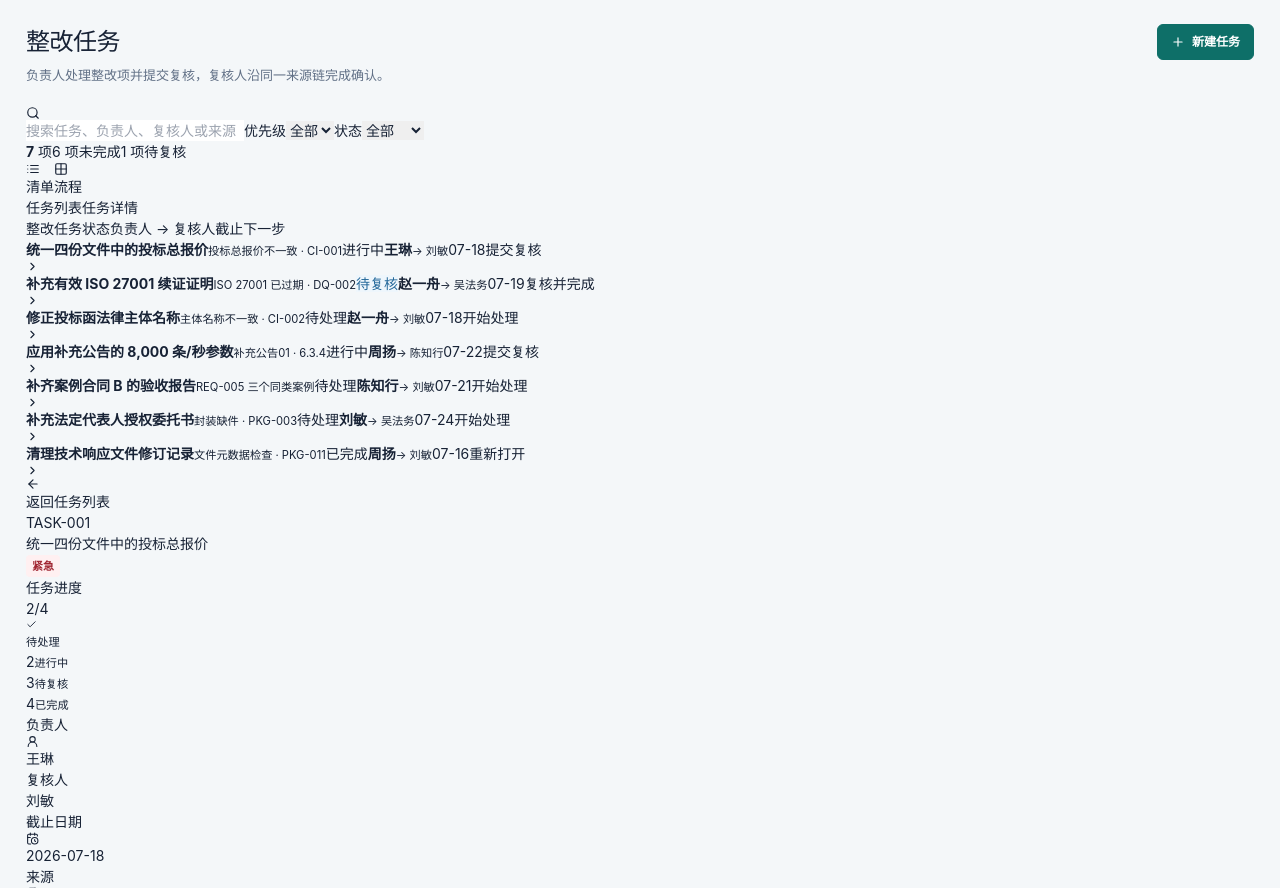
Phase 3-5 workbenches › keeps task filtering, selection and source context in one worklist
Select "高" in the dropdown named "按优先级筛选". click: (310, 130)
box: [286,120,334,140]
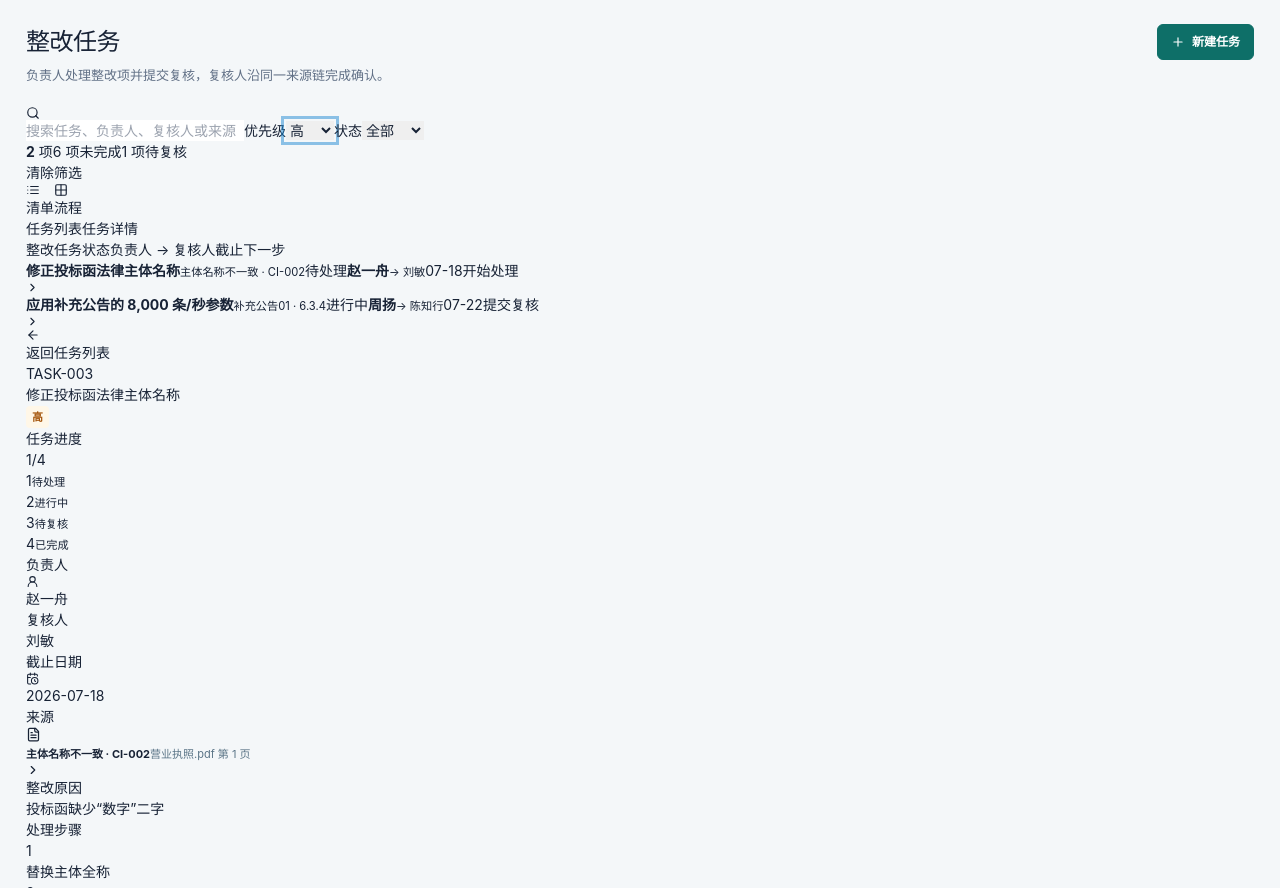
Expected: the button "修正投标函法律主体名称" is shown, [26,260,519,294]
Result: the button "统一四份文件中的投标总报价" is gone
Click the button "应用补充公告的 8,000 条/秒参数". click: (282, 310)
box: [26,294,539,328]
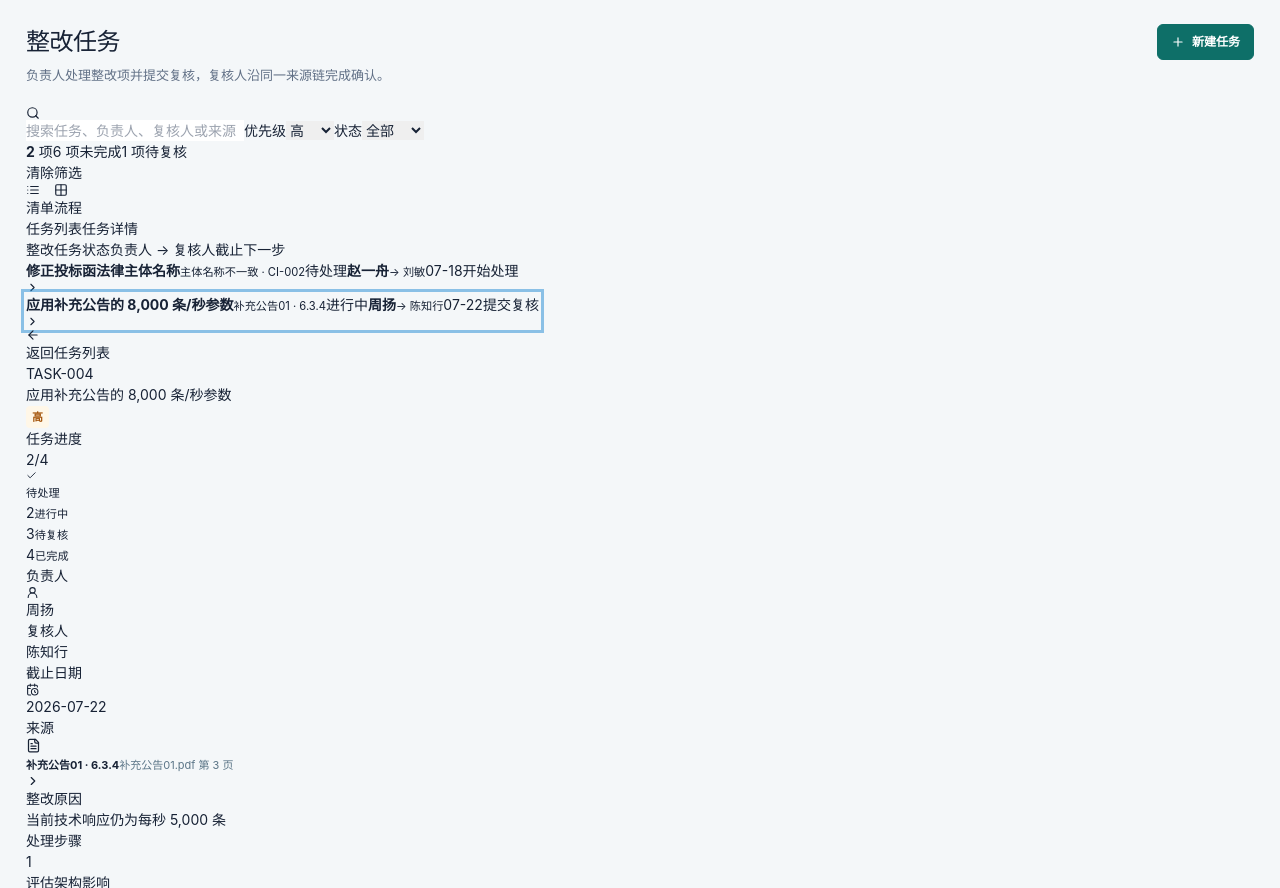
Result: the heading "应用补充公告的 8,000 条/秒参数" is shown at [26,386,232,402]
